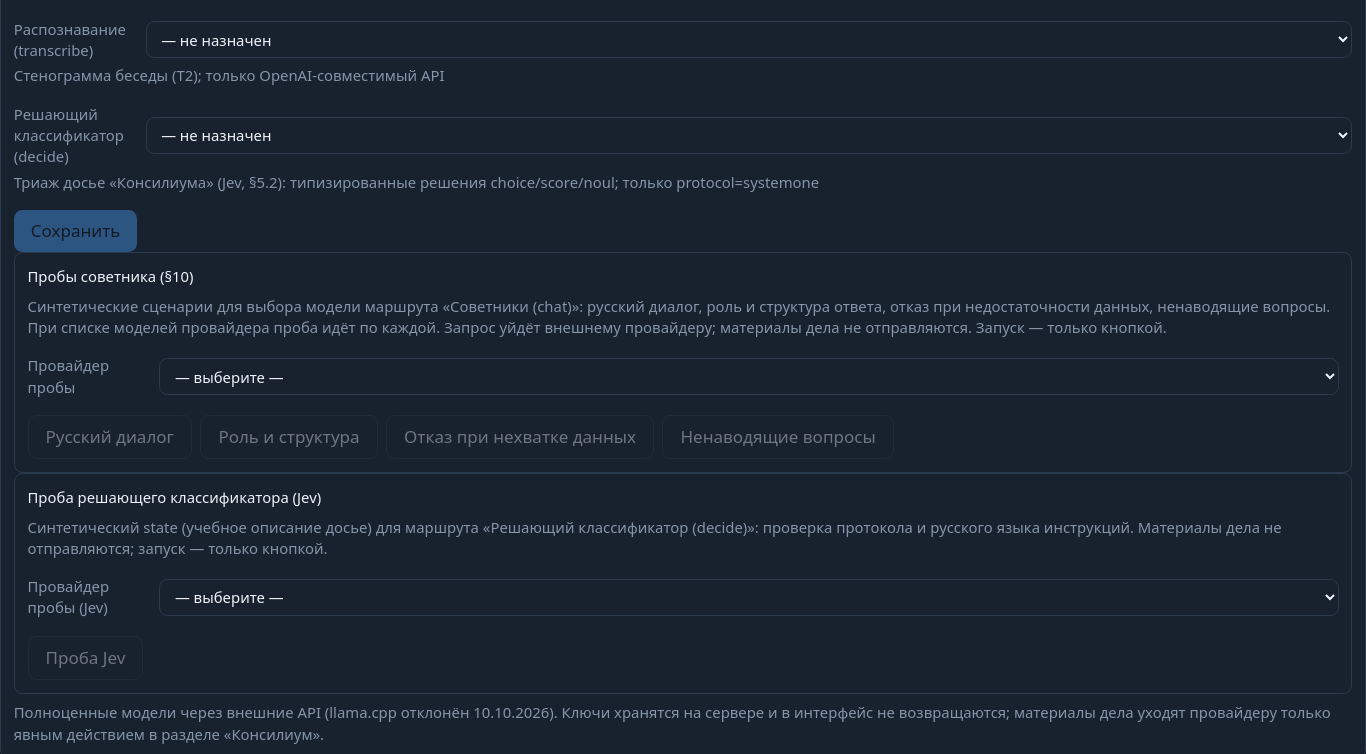
Test: панель «Модельный роутер ИИ» › проба советника: ошибка провайдера показывается честно
(page scrolled)
Select "Полная модель" in the dropdown labelled "Провайдер пробы" at (749,376), box [159,358,1339,395]
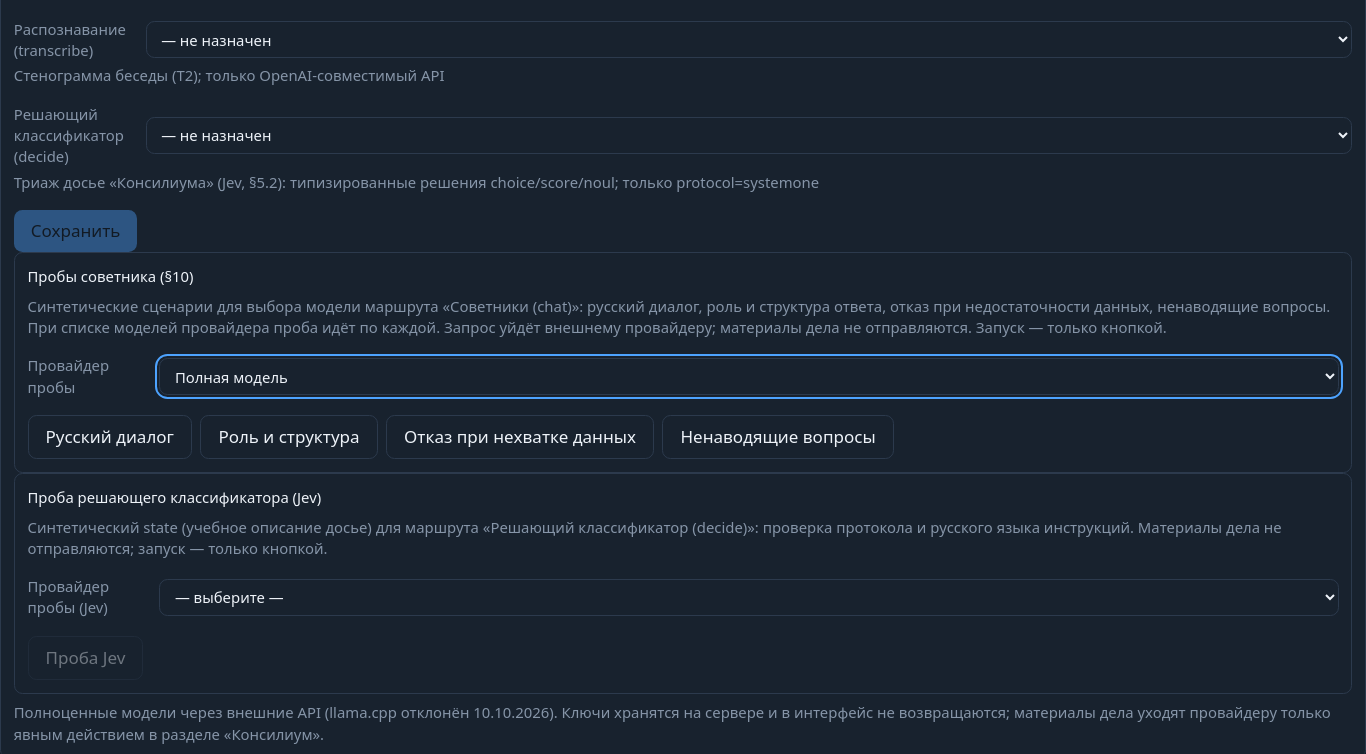
Click the button "Отказ при нехватке данных" at (520,437), box [386,415,654,459]
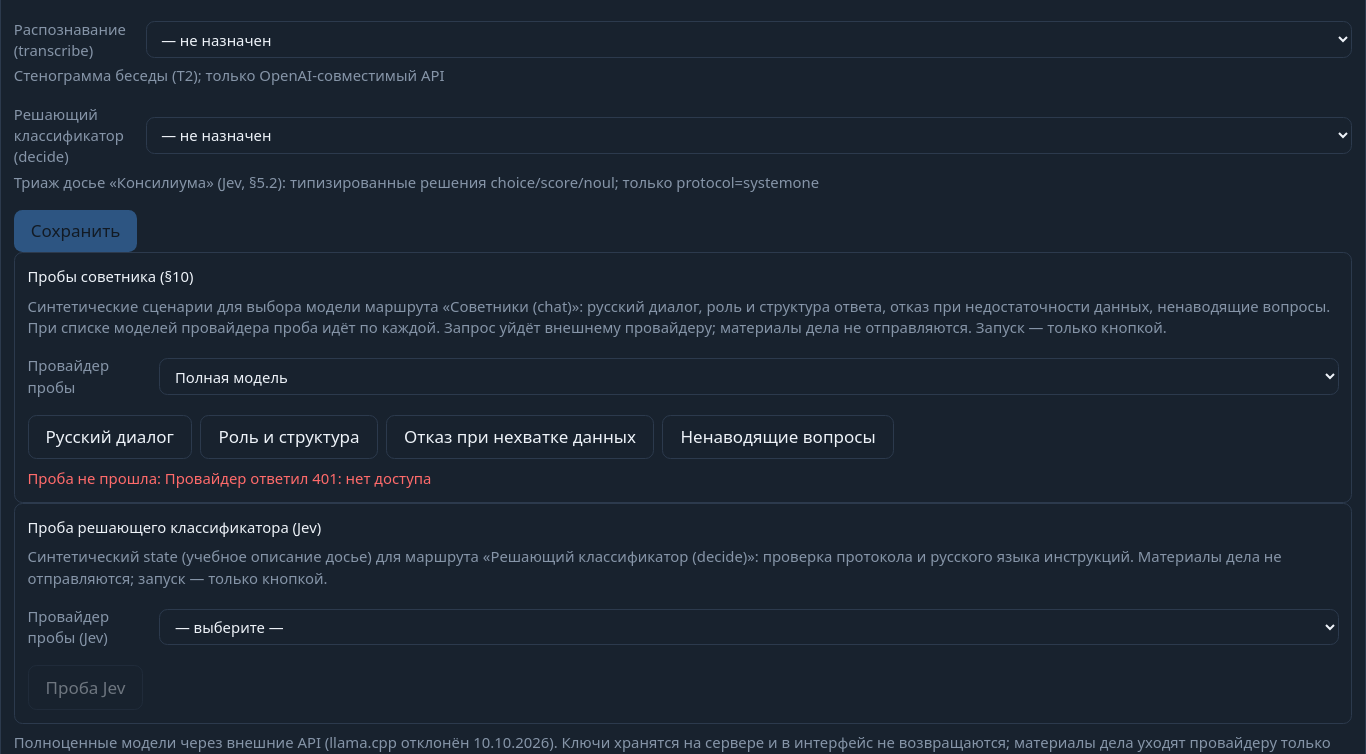
Now the text "Проба не прошла: Провайдер ответил 401: нет доступа" is shown, box [28,468,431,488]
